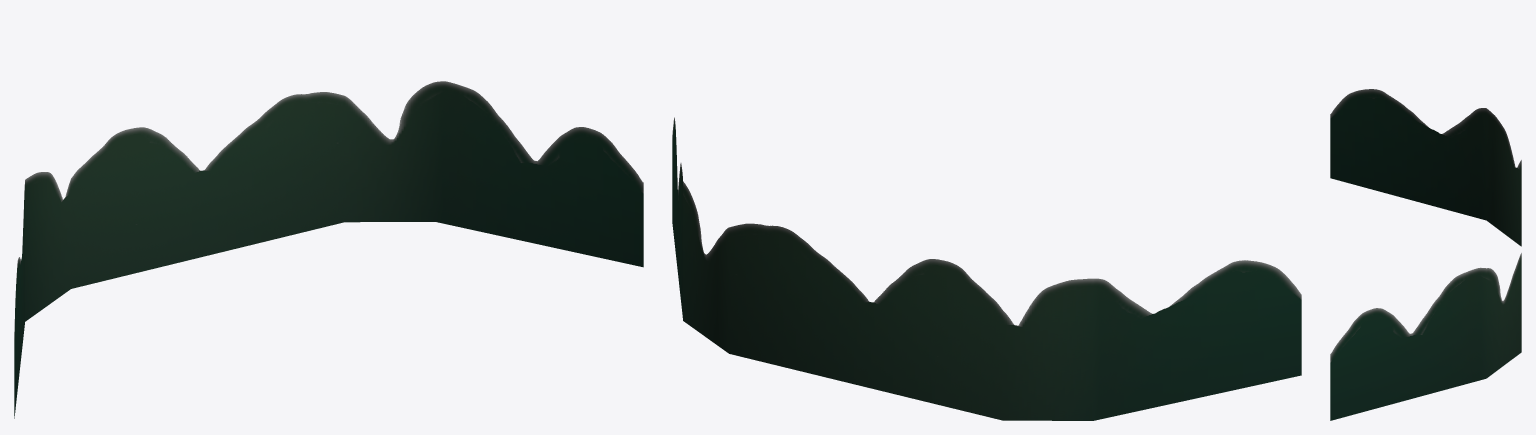
File: mountain.fbx
3 views of the same model, side by side, from view 1: azimuth 30°, elevation 25°; view 2: azimuth 150°, elevation 25°; view 3: azimuth 270°, elevation 25° (orthographic). The views are drawn at different scales.
Visible parts, largest first — view 1: Plane; view 2: Plane; view 3: Plane.
Part boxes in pixels (x1=…): Plane: x1=14, y1=81, x2=643, y2=418; Plane: x1=672, y1=117, x2=1301, y2=420; Plane: x1=1330, y1=89, x2=1521, y2=420.
Bounding box in the file's own units: 2775 × 876 × 924.
1 material, 1 textured.
